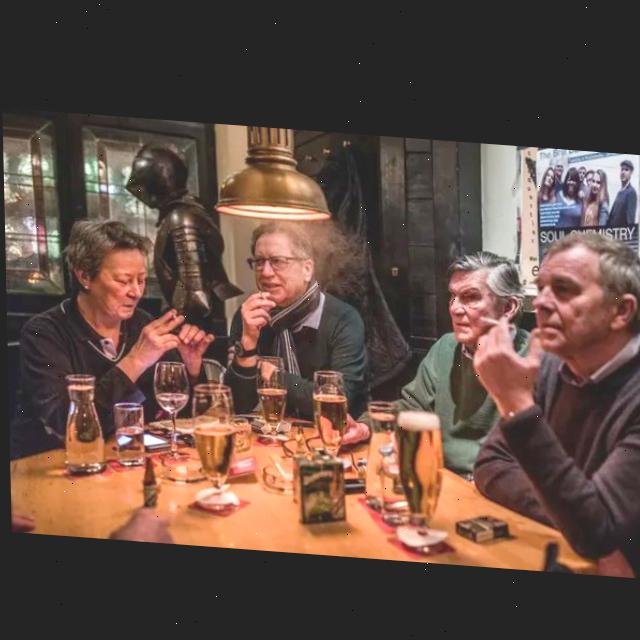cigarette: (477, 309, 513, 324), (268, 451, 284, 472), (258, 287, 265, 295), (170, 308, 174, 315)
